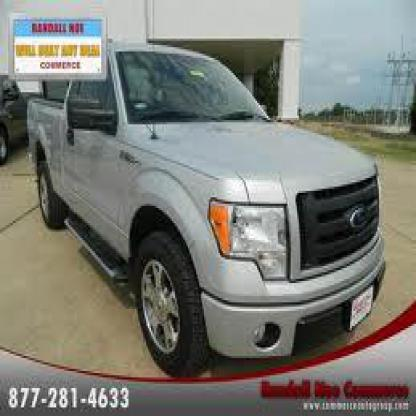Vehicle: (24, 39, 394, 388)
